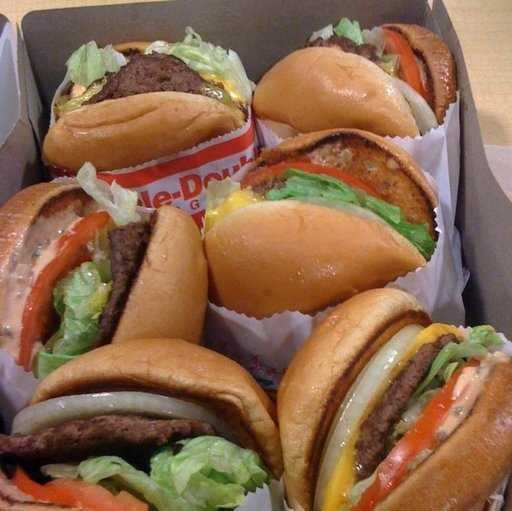hamburger: (258, 293, 506, 511), (12, 305, 276, 508), (1, 161, 210, 358), (194, 131, 438, 285), (50, 45, 227, 155), (259, 37, 451, 122)
